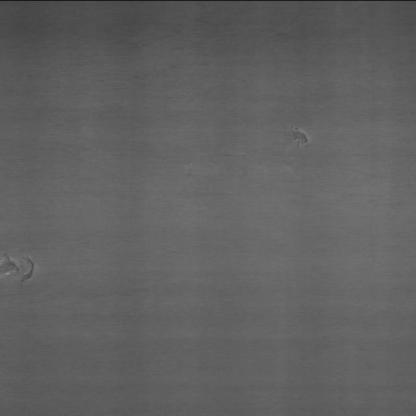rolled_pit: (1, 251, 50, 290), (283, 122, 316, 152)
